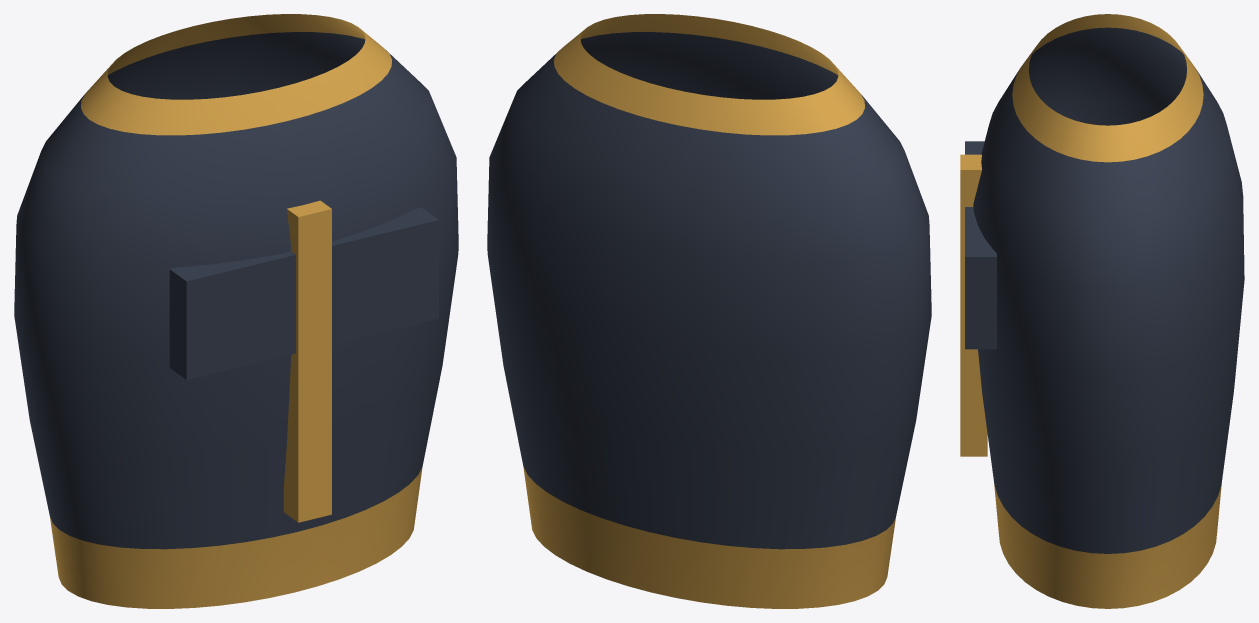
Rendered from armor_chest_01.glb.
3 renders of one model, left to right at view 1: azimuth 30°, elevation 25°; view 2: azimuth 150°, elevation 25°; view 3: azimuth 270°, elevation 25°, orthographic. The views are drawn at different scales.
Parts seen in each view (by area): view 1: armor_chest_01; view 2: armor_chest_01; view 3: armor_chest_01.
Boxes of the visible parts, x1=… form: armor_chest_01: x1=14, y1=14, x2=458, y2=608; armor_chest_01: x1=487, y1=14, x2=931, y2=608; armor_chest_01: x1=960, y1=14, x2=1244, y2=608.
Size of the model in its own units: 0.5 by 0.56 by 0.312.
